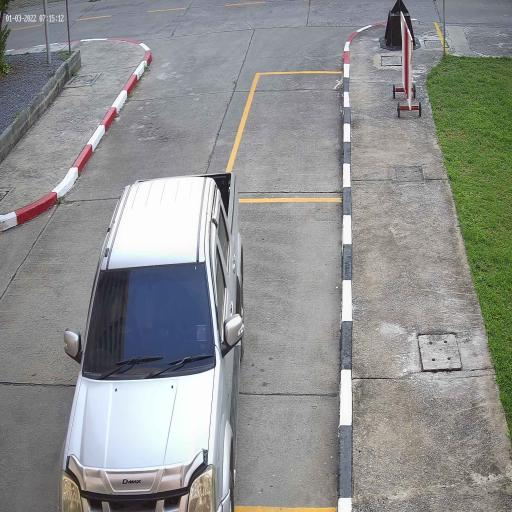car: (54, 170, 246, 512)
